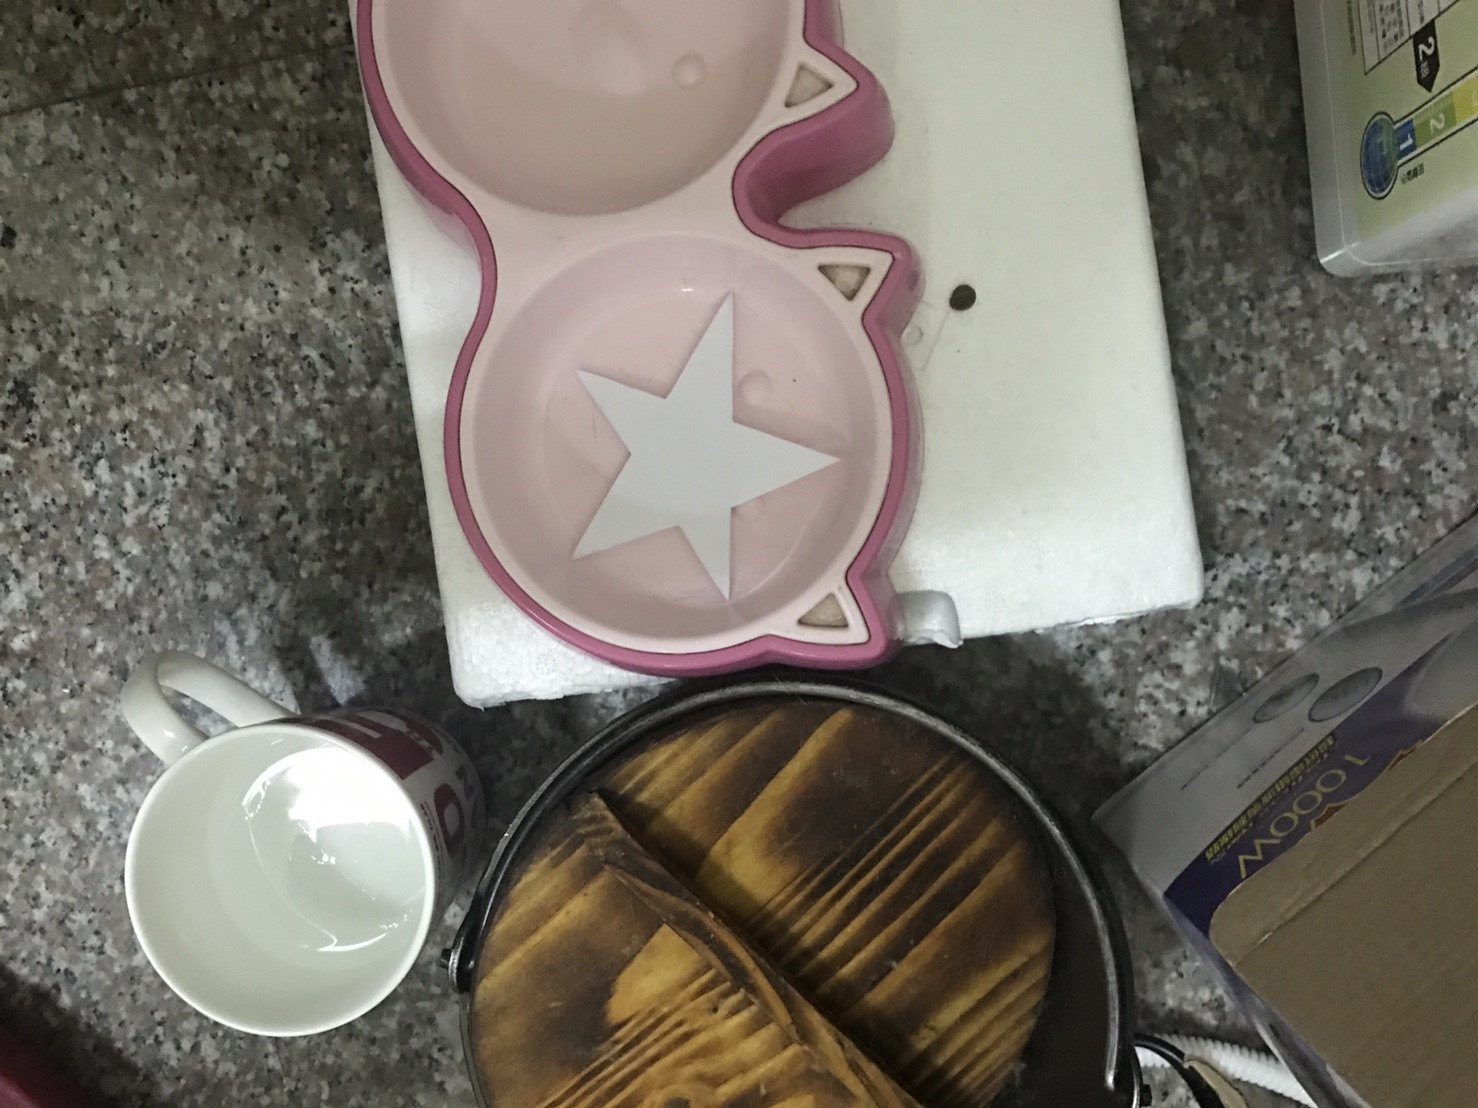star: (557, 282, 855, 627)
